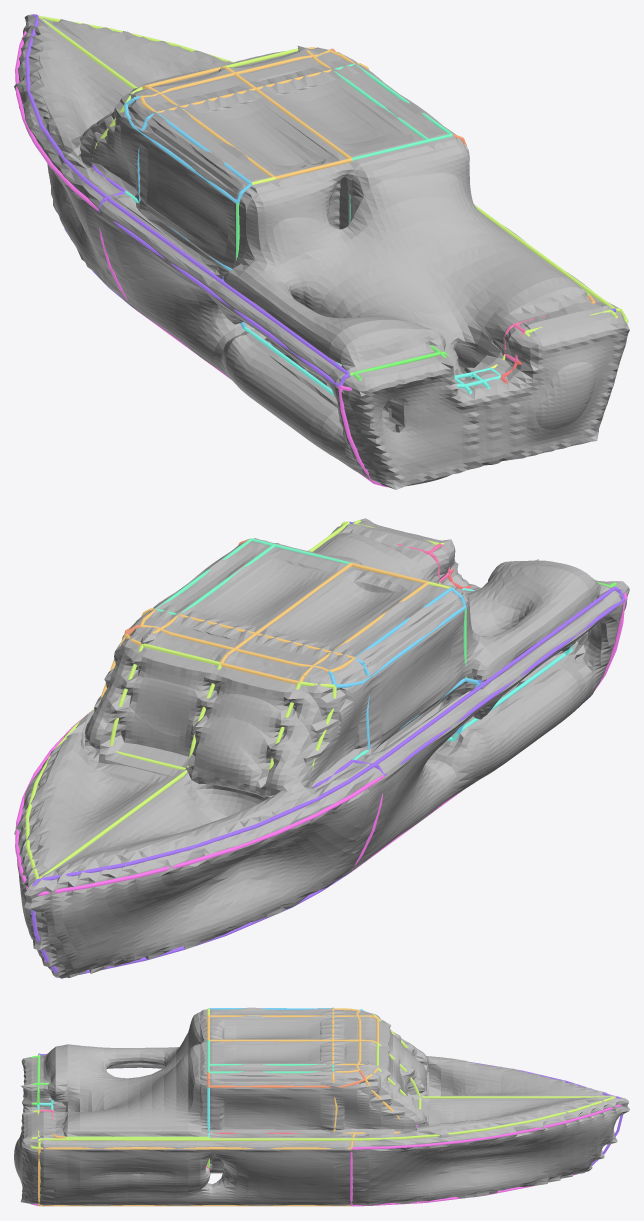
The model's file is flowrep_boat.gltf.
3 renders of one model, top to bottom at view 1: azimuth 30°, elevation 25°; view 2: azimuth 150°, elevation 25°; view 3: azimuth 270°, elevation 25°, orthographic. The views are drawn at different scales.
Bounding box in the file's own units: 0.3341 × 0.2525 × 0.9491.
